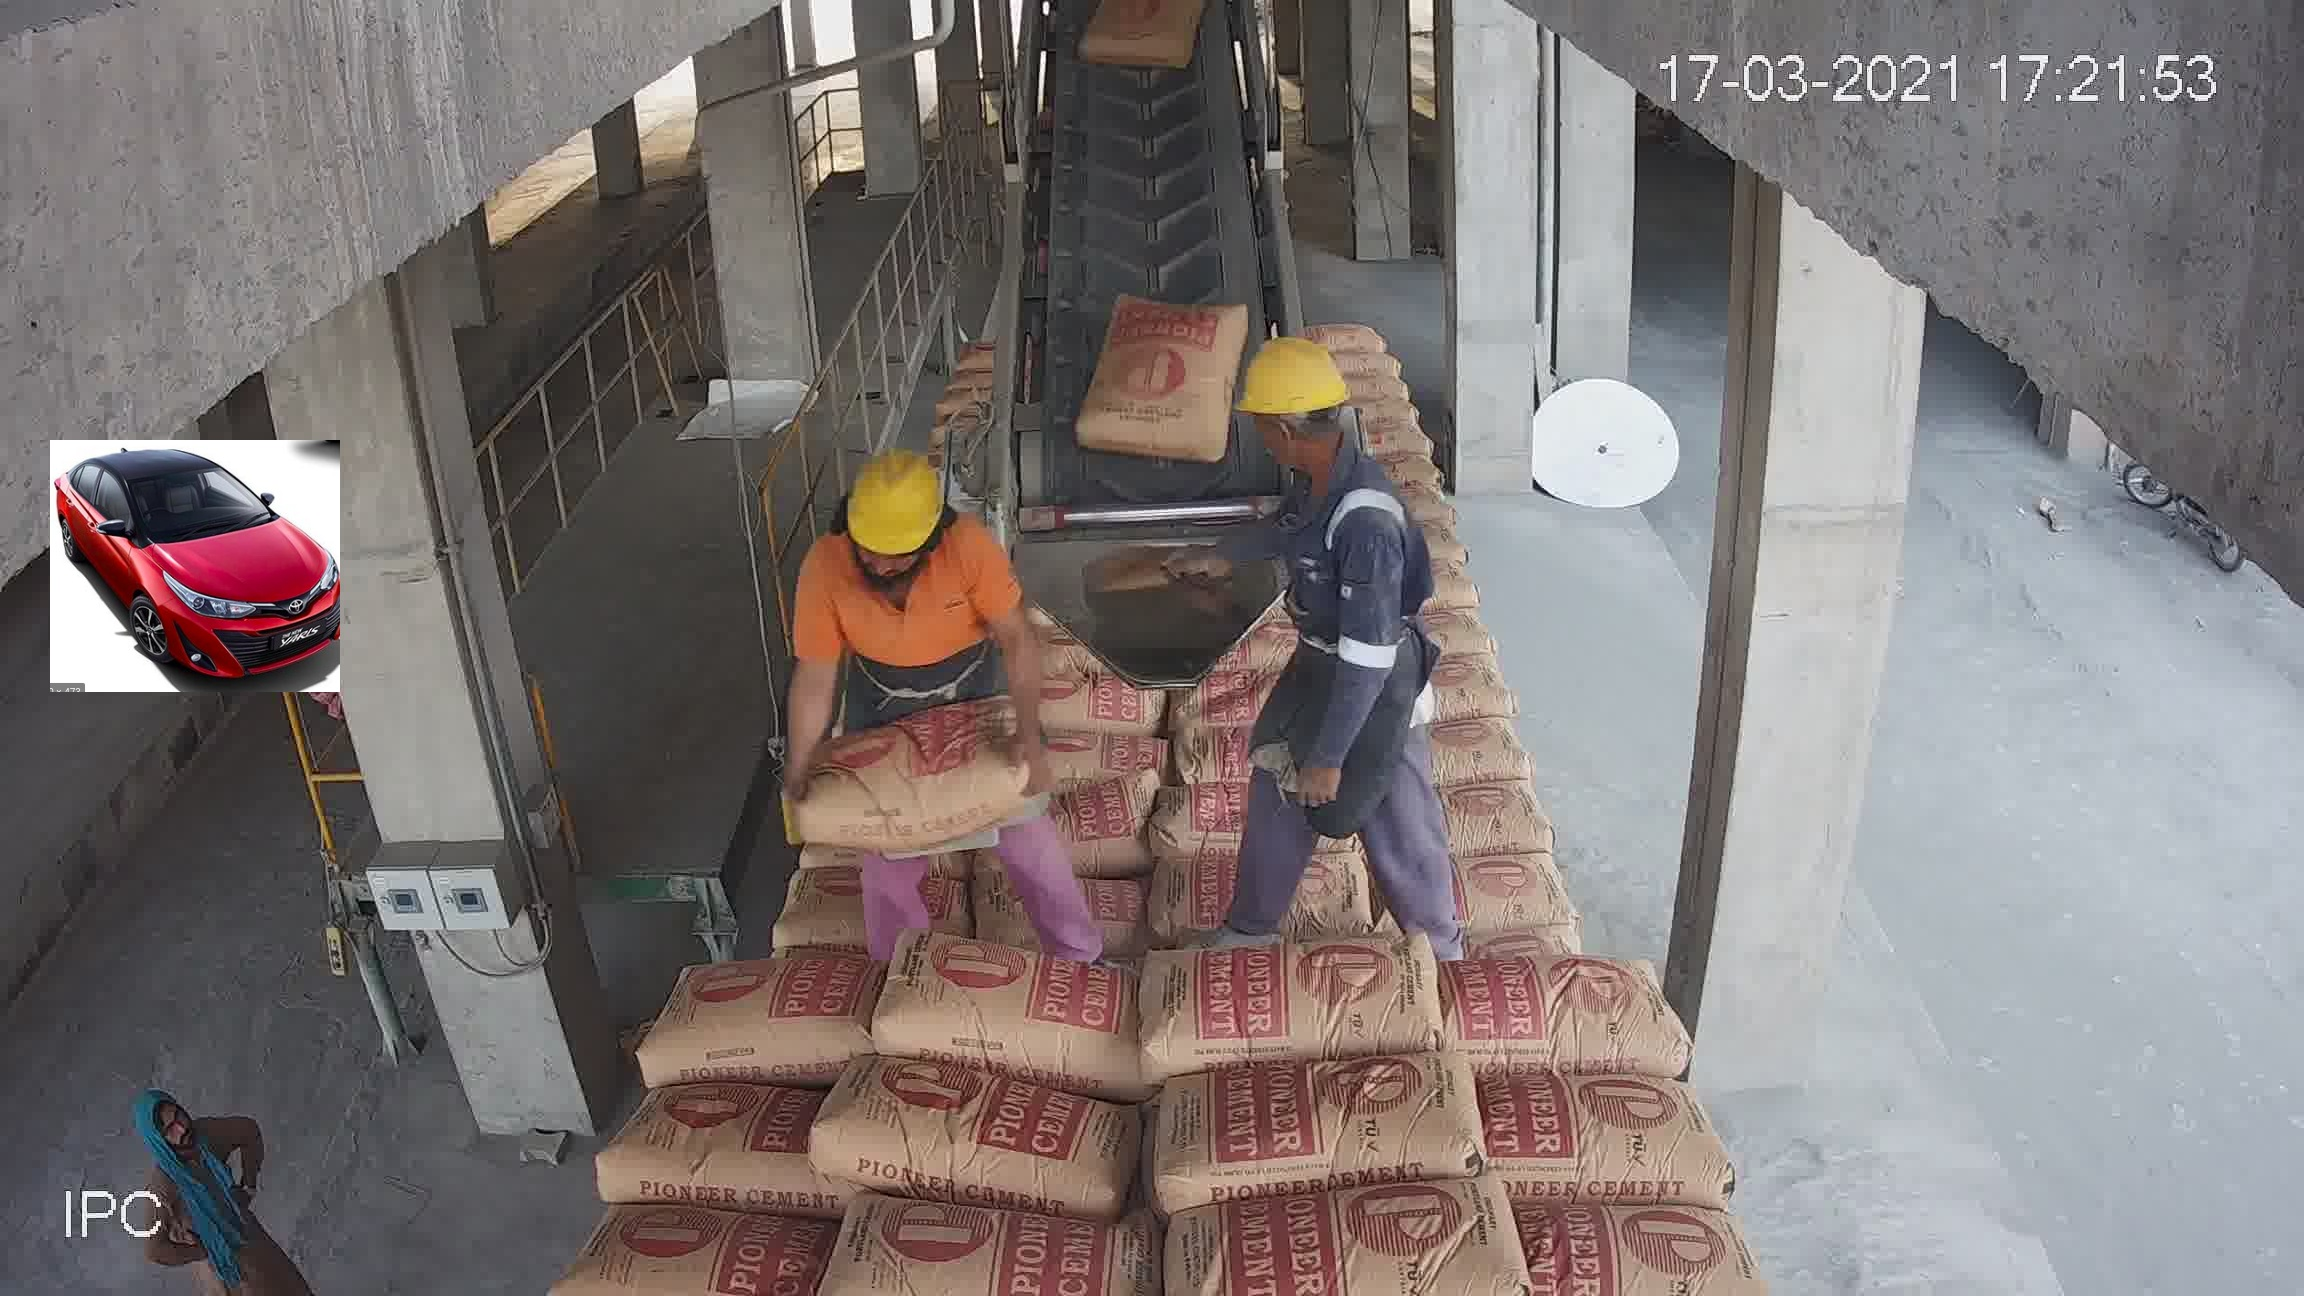bag_h: (1173, 1048, 1492, 1193), (1173, 1173, 1549, 1296), (866, 937, 1184, 1059), (817, 1079, 1117, 1201), (880, 836, 1131, 975), (1146, 715, 1400, 845), (1180, 932, 1457, 1049), (631, 956, 872, 1089), (1476, 1070, 1726, 1196), (1152, 828, 1426, 942), (829, 1195, 1120, 1290), (604, 1082, 823, 1206), (897, 737, 1157, 840), (1457, 946, 1673, 1067), (690, 850, 908, 959), (1530, 1201, 1779, 1279), (1410, 764, 1608, 861), (1412, 858, 1646, 937), (696, 790, 896, 877), (1011, 650, 1177, 722), (592, 1230, 840, 1274), (1161, 665, 1302, 737), (1010, 571, 1166, 631), (999, 616, 1171, 669), (1190, 502, 1332, 565), (1173, 560, 1313, 623), (1185, 612, 1321, 673), (910, 495, 1024, 555), (919, 541, 1046, 593), (1027, 725, 1174, 769), (896, 456, 1006, 514), (1060, 538, 1185, 570)
belt: (1017, 9, 1293, 502)
